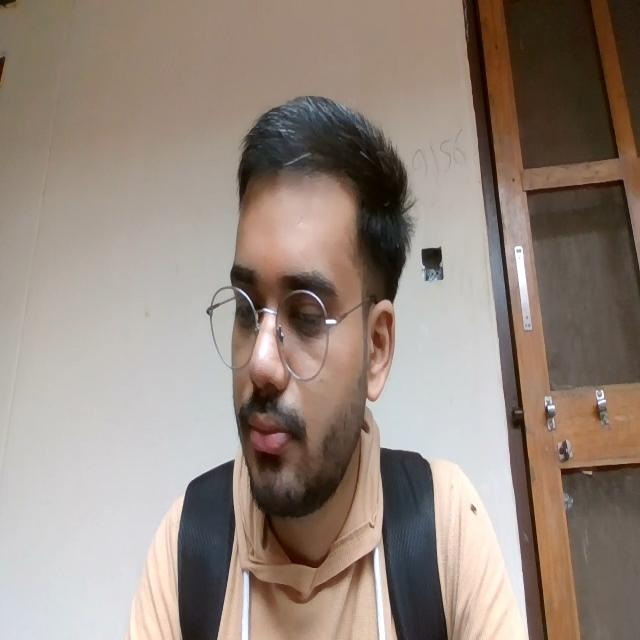drowsy: (207, 251, 346, 470)
